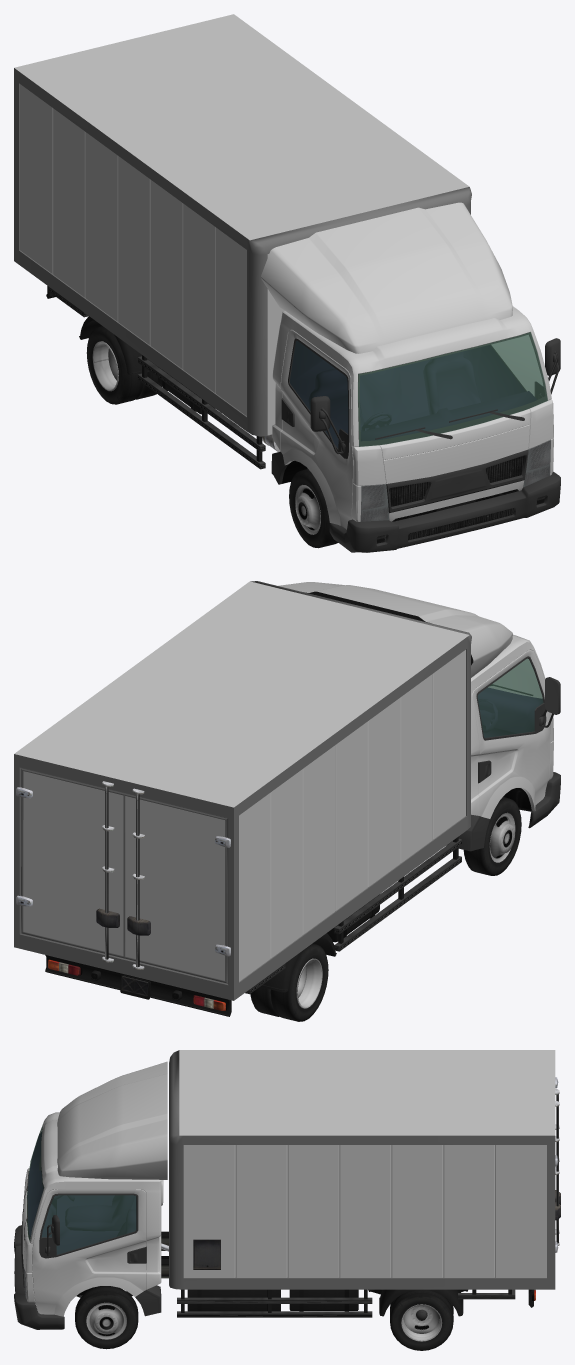
The model's file is LigthWeightTruck.fbx.
3 renders of one model, top to bottom at view 1: azimuth 30°, elevation 25°; view 2: azimuth 150°, elevation 25°; view 3: azimuth 270°, elevation 25°, orthographic. The views are drawn at different scales.
Visible parts, largest first — view 1: BODY, GLASS, BOX_METAL, interior, CABIN_PLASTIC, bottom, BUMPER_FRONT, wheel_003, wheel_004, LIGHTS, BUMPER_FRONT_INNER; view 2: BODY, BOX_METAL, bottom, GLASS, wheel_003, wheel_004, CABIN_PLASTIC, interior, BUMPER_FRONT, LIGHTS; view 3: BODY, BOX_METAL, bottom, GLASS, interior, wheel_01, wheel_02, CABIN_PLASTIC, BUMPER_FRONT.
Boxes of the visible parts, bbox=[...] form: BODY: bbox=[14, 14, 553, 529]; GLASS: bbox=[290, 332, 547, 447]; BOX_METAL: bbox=[14, 68, 471, 436]; interior: bbox=[290, 341, 537, 447]; CABIN_PLASTIC: bbox=[271, 332, 560, 513]; bottom: bbox=[46, 286, 524, 521]; BUMPER_FRONT: bbox=[329, 471, 560, 552]; wheel_003: bbox=[86, 326, 161, 404]; wheel_004: bbox=[289, 469, 338, 548]; LIGHTS: bbox=[360, 439, 550, 521]; BUMPER_FRONT_INNER: bbox=[377, 496, 544, 543]; BODY: bbox=[14, 581, 553, 981]; BOX_METAL: bbox=[14, 581, 471, 1000]; bottom: bbox=[16, 591, 531, 1016]; GLASS: bbox=[477, 658, 543, 737]; wheel_003: bbox=[250, 943, 328, 1021]; wheel_004: bbox=[463, 797, 521, 875]; CABIN_PLASTIC: bbox=[446, 656, 560, 851]; interior: bbox=[477, 687, 543, 737]; BUMPER_FRONT: bbox=[528, 772, 560, 828]; LIGHTS: bbox=[48, 958, 227, 1010]; BODY: bbox=[22, 1050, 555, 1316]; BOX_METAL: bbox=[169, 1050, 555, 1289]; bottom: bbox=[76, 1077, 560, 1317]; GLASS: bbox=[26, 1125, 136, 1254]; interior: bbox=[27, 1132, 136, 1254]; wheel_01: bbox=[75, 1286, 138, 1349]; wheel_02: bbox=[390, 1290, 453, 1350]; CABIN_PLASTIC: bbox=[21, 1127, 161, 1316]; BUMPER_FRONT: bbox=[14, 1225, 64, 1329].
Size of the model in its own units: 2.69 by 6.42 by 2.84.
Materials: 11 (5 with a texture image).
